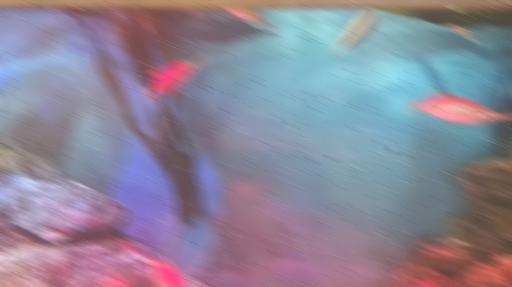Fish: (142, 53, 207, 102), (408, 93, 511, 123), (330, 10, 377, 56), (147, 255, 182, 286), (225, 7, 276, 27), (449, 26, 476, 42), (138, 9, 153, 33), (110, 270, 123, 286), (446, 8, 463, 11), (427, 282, 434, 286)
